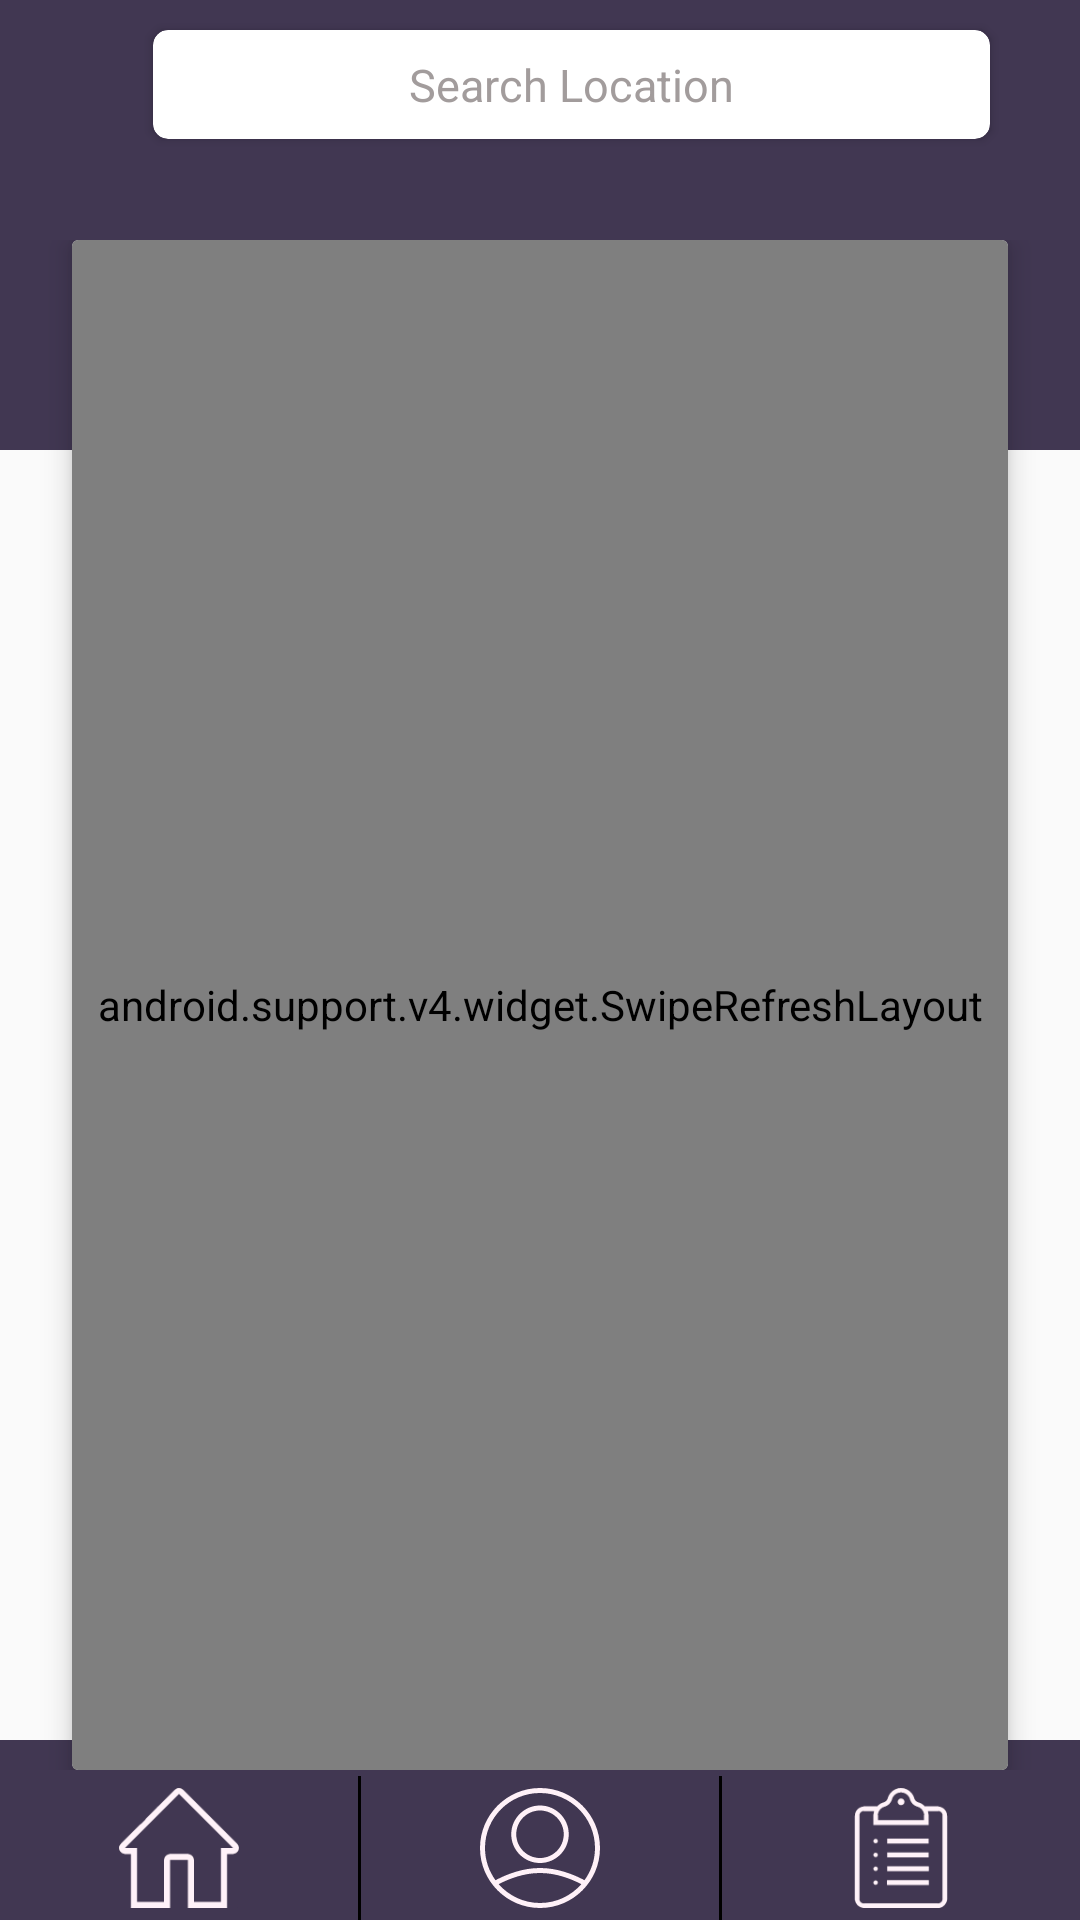

Named icons in this screenshot (1080px×1920px) and their centers, [x,y]:
home: [179,1848]
post: [901,1848]
profile: [540,1848]
